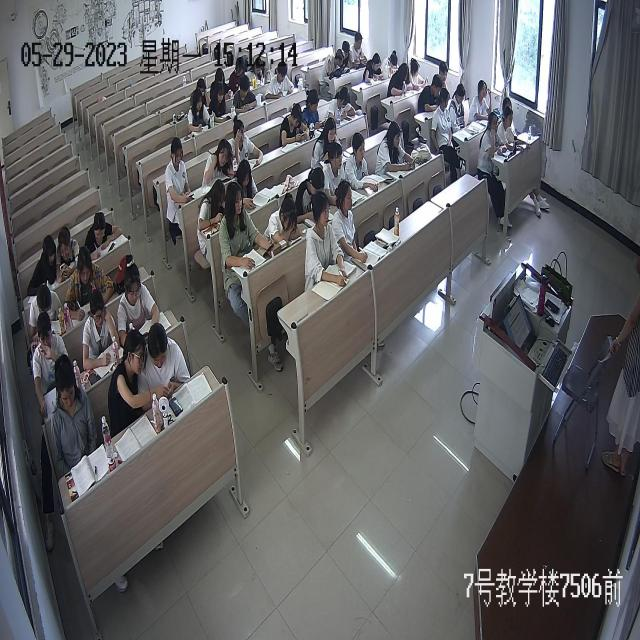distracted: (49, 358, 98, 472), (108, 330, 156, 426), (26, 236, 60, 297), (204, 138, 237, 191), (433, 87, 453, 142), (417, 72, 442, 111), (451, 84, 470, 131), (321, 49, 346, 80), (339, 41, 357, 74), (438, 60, 451, 96)
focused: (306, 192, 346, 288), (118, 260, 162, 344), (81, 290, 125, 374), (70, 246, 116, 318), (32, 315, 72, 391), (332, 180, 366, 264), (345, 130, 378, 196), (84, 211, 124, 261), (297, 168, 329, 229), (195, 179, 228, 237), (26, 285, 67, 331), (321, 143, 351, 205), (228, 119, 263, 170), (311, 116, 343, 166), (478, 107, 504, 165), (262, 60, 296, 103), (499, 106, 522, 152), (388, 63, 414, 100), (234, 79, 258, 119), (470, 80, 491, 119), (228, 58, 250, 94), (363, 51, 384, 82), (352, 32, 369, 68), (381, 48, 401, 76), (250, 57, 268, 88)
sleep: (266, 192, 304, 251)
using_phone: (220, 182, 278, 274), (138, 325, 192, 402), (378, 120, 421, 178), (167, 138, 193, 212), (52, 226, 82, 286), (278, 100, 313, 150), (234, 158, 261, 215), (327, 85, 358, 130), (298, 88, 327, 131), (187, 85, 212, 133), (409, 53, 431, 97), (214, 65, 236, 104)
